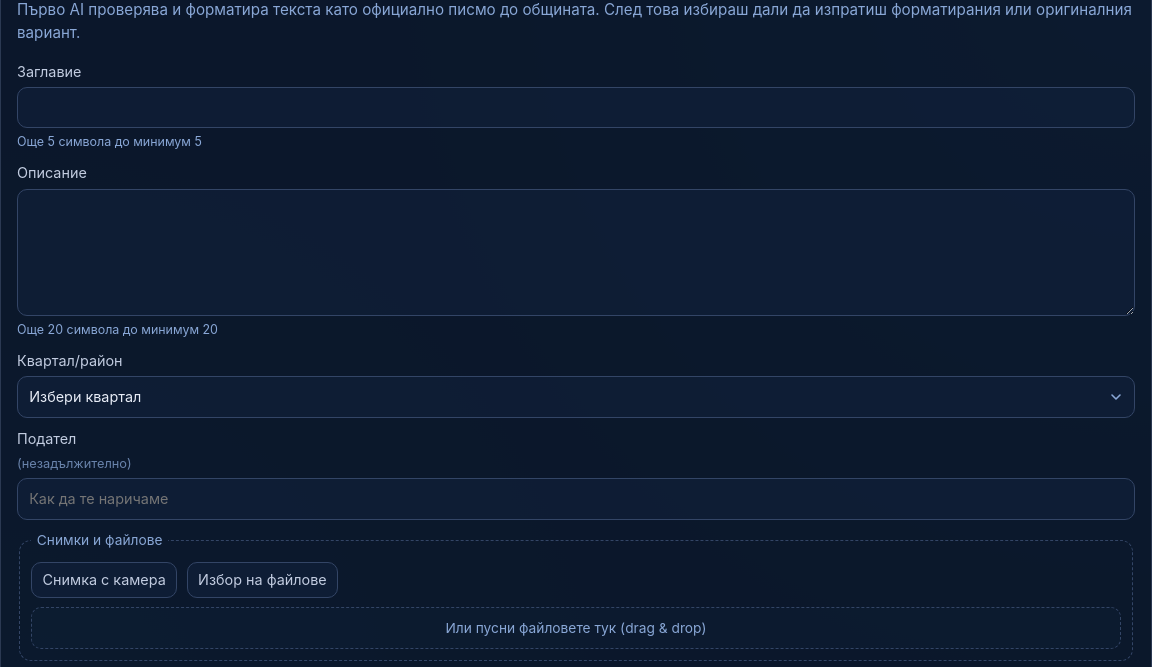
Test: SignalForm › shows the AI moderation reason when preview is rejected
Type "Test signal title" into the field labelled "Заглавие" at [576, 108], box [17,87,1135,128]
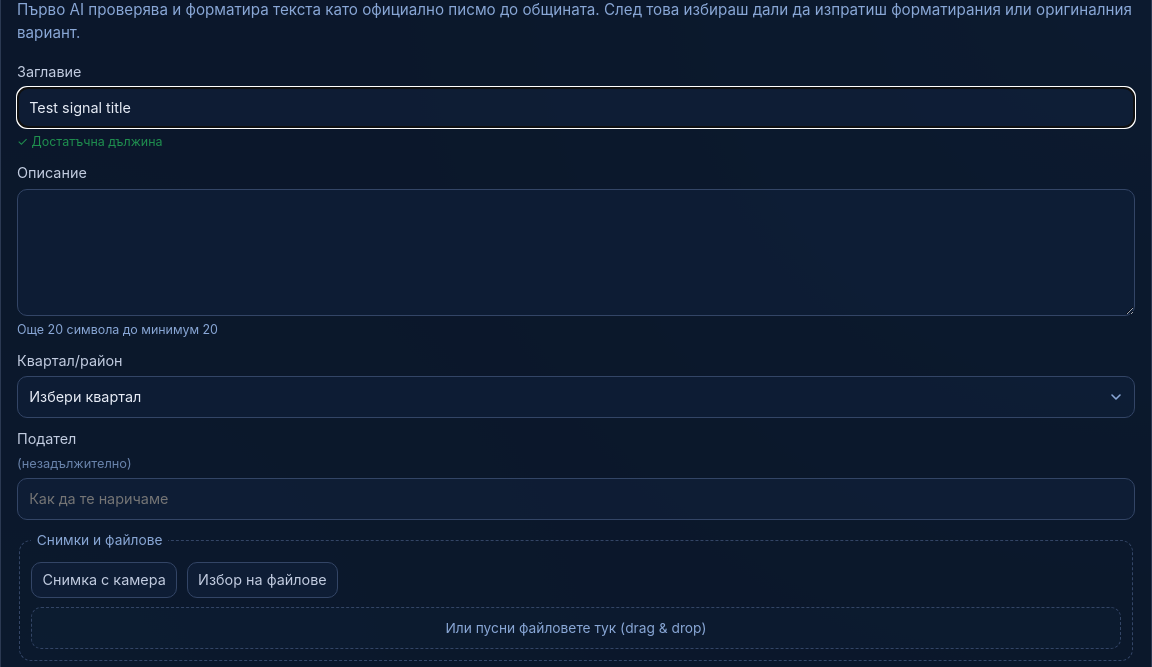
Type "This description is definitely long enough to pass validation." into the text box labelled "Описание" at [576, 252], box [17,189,1135,316]
(page scrolled)
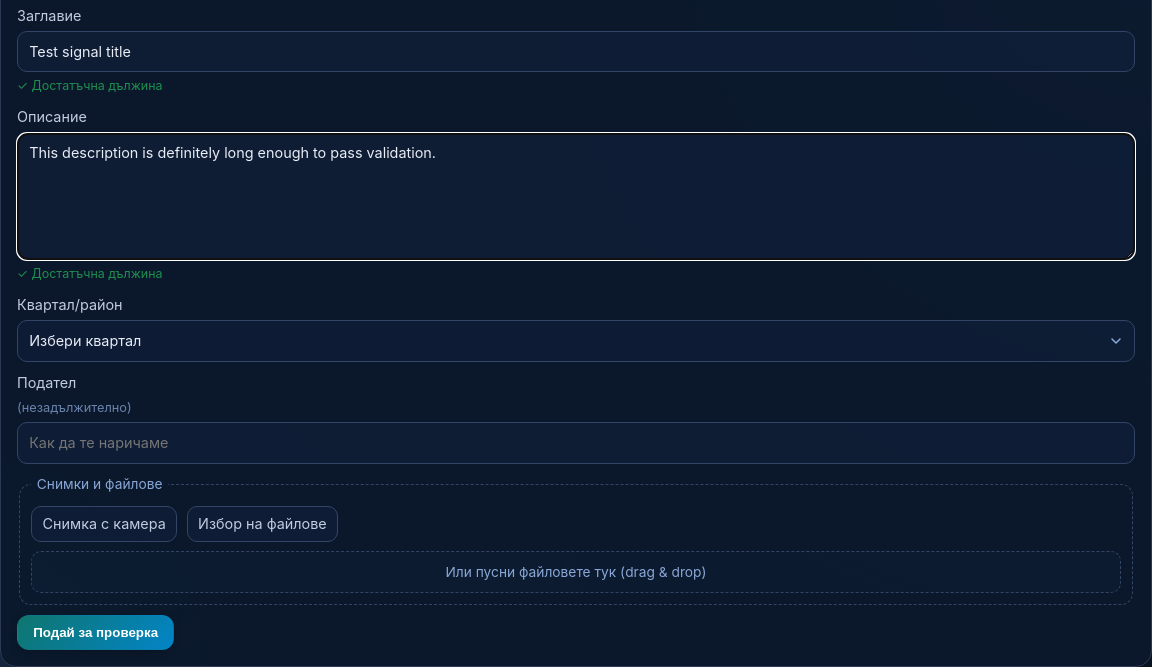
Click the button "Подай за проверка" at [96, 633], box [17,615,174,650]
(page scrolled)
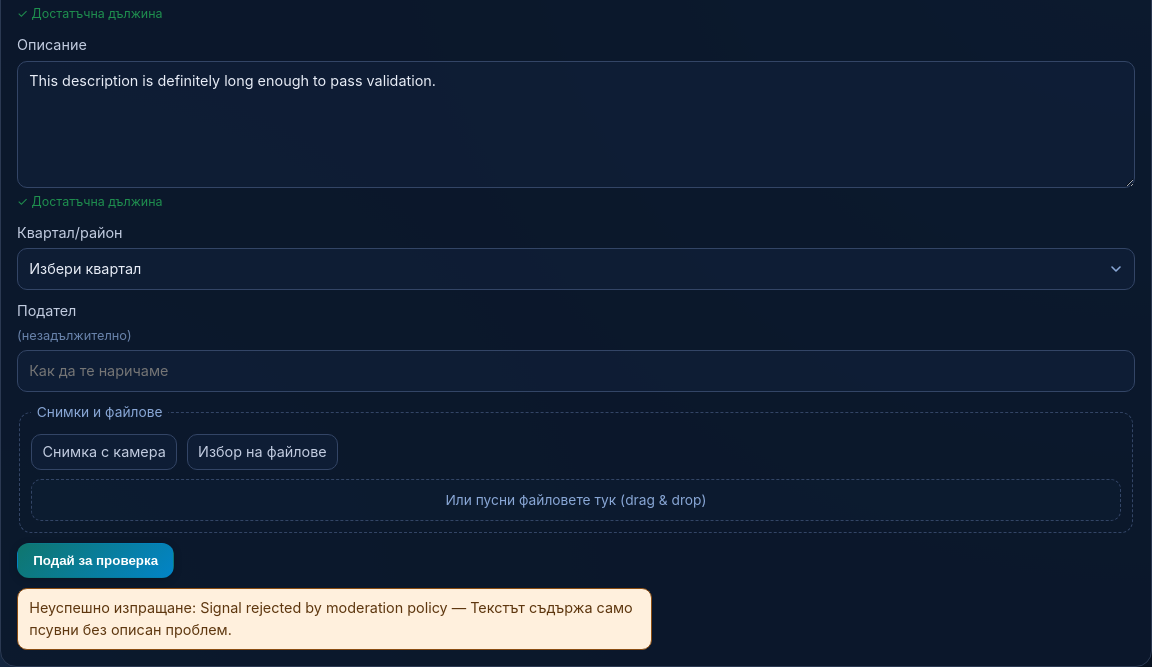
Result: the text "псувни без описан проблем" is shown at [29,599,633,638]
